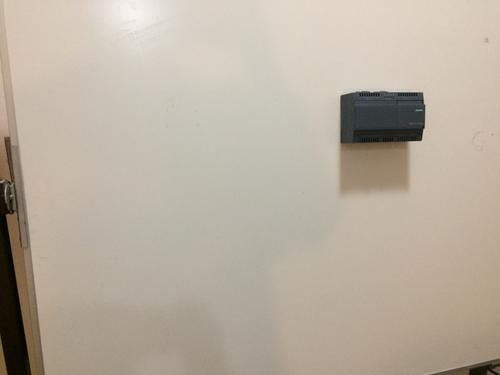iot2000: (339, 89, 426, 144)
